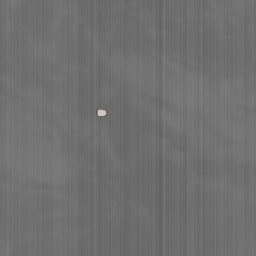Target: (95, 106, 108, 118)
